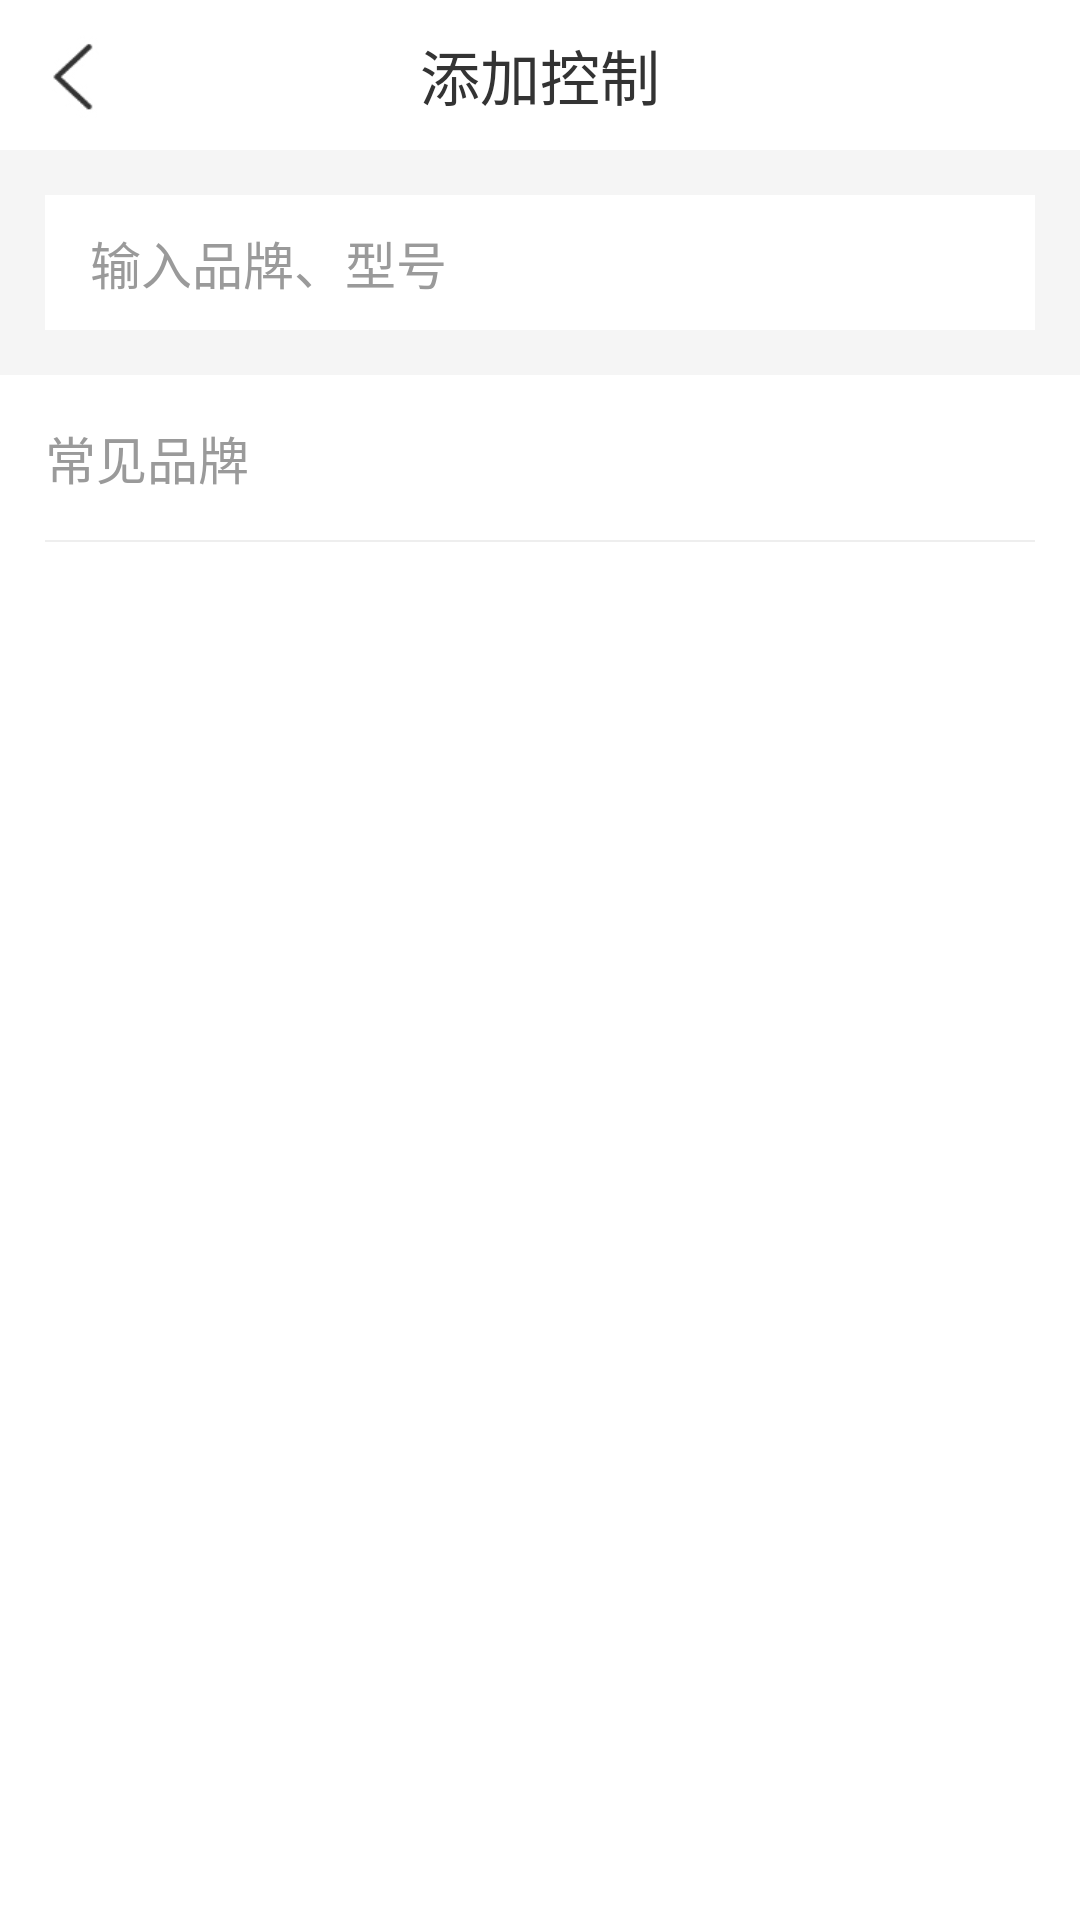

Screen size 1080w x 1920h. Icon name, then its box in pixels as (x1, y1, x2, y2):
back: (53, 44, 93, 110)
